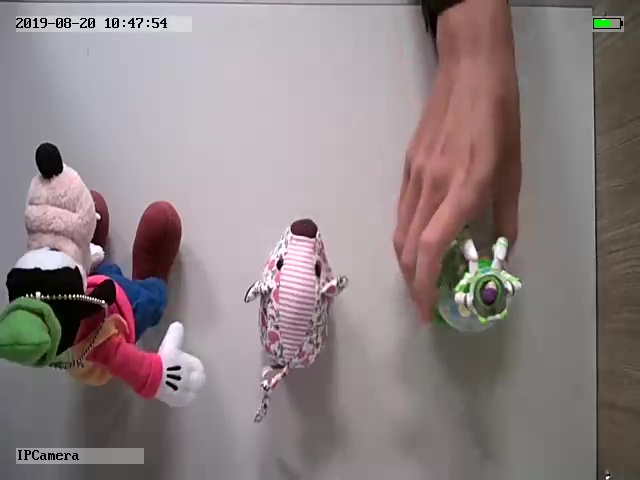buzz: (429, 231, 526, 337)
goofy: (2, 141, 212, 407)
pig: (242, 219, 352, 424)
